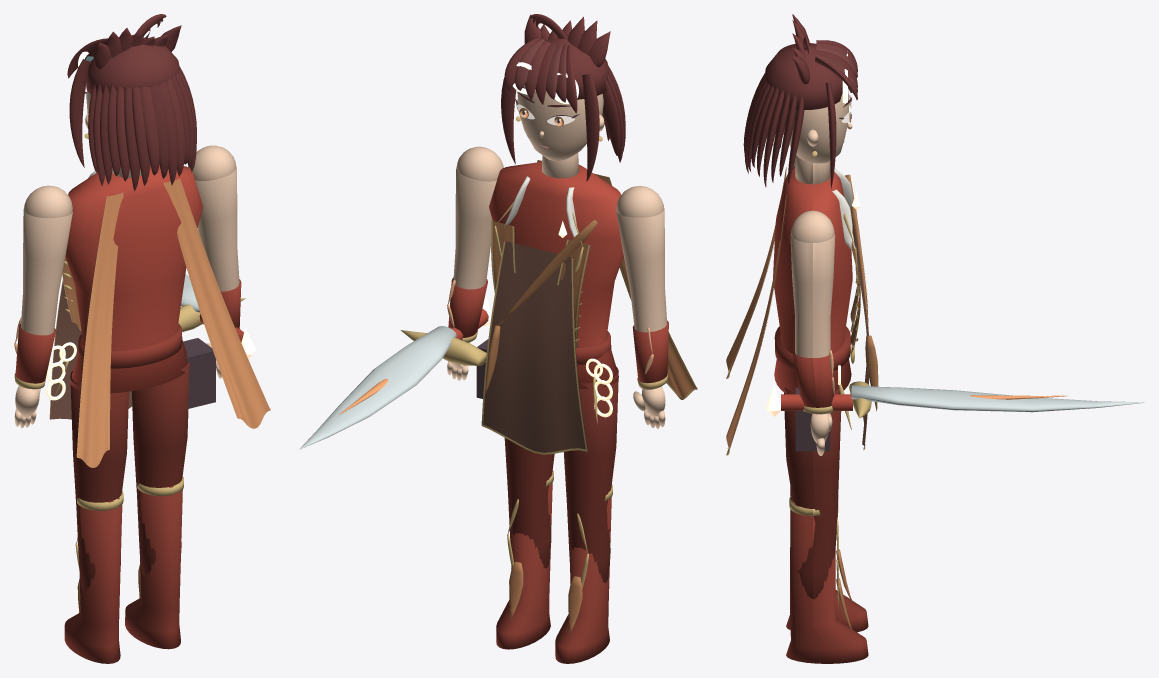
The model's file is character_01.glb.
3 views of the same model, side by side, from view 1: azimuth 30°, elevation 25°; view 2: azimuth 150°, elevation 25°; view 3: azimuth 270°, elevation 25° (orthographic). The views are drawn at different scales.
Visible parts, largest first — view 1: _MeshInstance3D_457, _MeshInstance3D_511, _MeshInstance3D_481, _MeshInstance3D_473, _MeshInstance3D_475, _MeshInstance3D_485, _MeshInstance3D_478, _MeshInstance3D_486, _MeshInstance3D_489, _MeshInstance3D_477, _MeshInstance3D_512, _MeshInstance3D_513 (+10 smaller); view 2: _MeshInstance3D_461, _MeshInstance3D_457, _MeshInstance3D_511, _MeshInstance3D_477, _MeshInstance3D_481, _MeshInstance3D_489, _MeshInstance3D_491, _MeshInstance3D_485, _MeshInstance3D_486, _MeshInstance3D_478, _MeshInstance3D_498, _MeshInstance3D_482 (+15 smaller); view 3: _MeshInstance3D_457, _MeshInstance3D_511, _MeshInstance3D_489, _MeshInstance3D_486, _MeshInstance3D_485, _MeshInstance3D_491, _MeshInstance3D_498, _MeshInstance3D_490, _MeshInstance3D_512, _MeshInstance3D_513, _MeshInstance3D_472, _MeshInstance3D_475 (+7 smaller).
Boxes of the visible parts, left/top/right/bottom form: _MeshInstance3D_457: left=65, top=165, right=202, bottom=393; _MeshInstance3D_511: left=67, top=14, right=196, bottom=185; _MeshInstance3D_481: left=14, top=185, right=72, bottom=428; _MeshInstance3D_473: left=77, top=193, right=123, bottom=467; _MeshInstance3D_475: left=164, top=179, right=270, bottom=428; _MeshInstance3D_485: left=132, top=362, right=189, bottom=577; _MeshInstance3D_478: left=64, top=498, right=122, bottom=663; _MeshInstance3D_486: left=125, top=485, right=182, bottom=649; _MeshInstance3D_489: left=188, top=145, right=239, bottom=378; _MeshInstance3D_477: left=70, top=371, right=128, bottom=592; _MeshInstance3D_512: left=88, top=66, right=194, bottom=185; _MeshInstance3D_513: left=100, top=67, right=196, bottom=191; _MeshInstance3D_461: left=483, top=241, right=587, bottom=452; _MeshInstance3D_457: left=489, top=161, right=623, bottom=388; _MeshInstance3D_511: left=501, top=14, right=623, bottom=181; _MeshInstance3D_477: left=563, top=366, right=618, bottom=582; _MeshInstance3D_481: left=616, top=186, right=667, bottom=428; _MeshInstance3D_489: left=447, top=146, right=503, bottom=380; _MeshInstance3D_491: left=299, top=326, right=456, bottom=449; _MeshInstance3D_485: left=504, top=438, right=554, bottom=568; _MeshInstance3D_486: left=496, top=474, right=552, bottom=649; _MeshInstance3D_478: left=555, top=497, right=611, bottom=663; _MeshInstance3D_498: left=516, top=87, right=604, bottom=160; _MeshInstance3D_482: left=632, top=320, right=668, bottom=383; _MeshInstance3D_457: left=773, top=166, right=852, bottom=394; _MeshInstance3D_511: left=746, top=14, right=857, bottom=188; _MeshInstance3D_489: left=790, top=210, right=835, bottom=455; _MeshInstance3D_486: left=786, top=497, right=868, bottom=663; _MeshInstance3D_485: left=784, top=387, right=841, bottom=599; _MeshInstance3D_491: left=851, top=385, right=1144, bottom=412; _MeshInstance3D_498: left=783, top=90, right=852, bottom=163; _MeshInstance3D_490: left=793, top=351, right=834, bottom=407; _MeshInstance3D_512: left=744, top=79, right=796, bottom=176; _MeshInstance3D_513: left=743, top=75, right=789, bottom=182; _MeshInstance3D_472: left=845, top=174, right=878, bottom=410; _MeshInstance3D_475: left=726, top=194, right=786, bottom=455.
Size of the model in its own units: 1.06 by 2.55 by 1.57.
